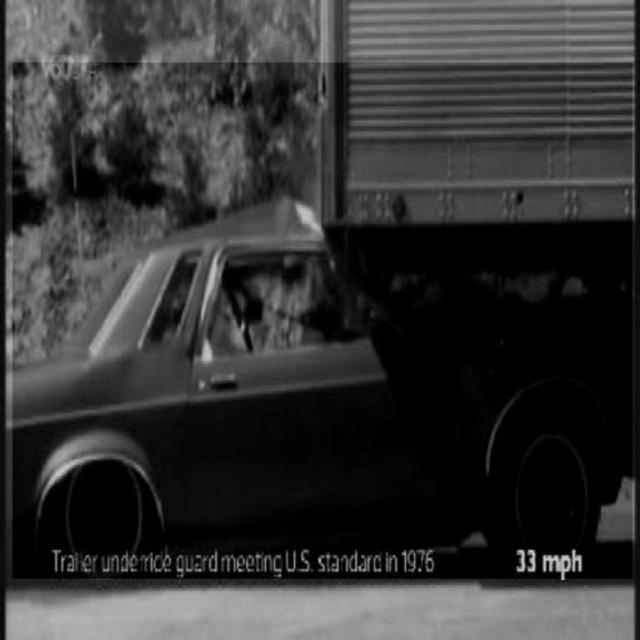accident: (13, 63, 633, 579)
